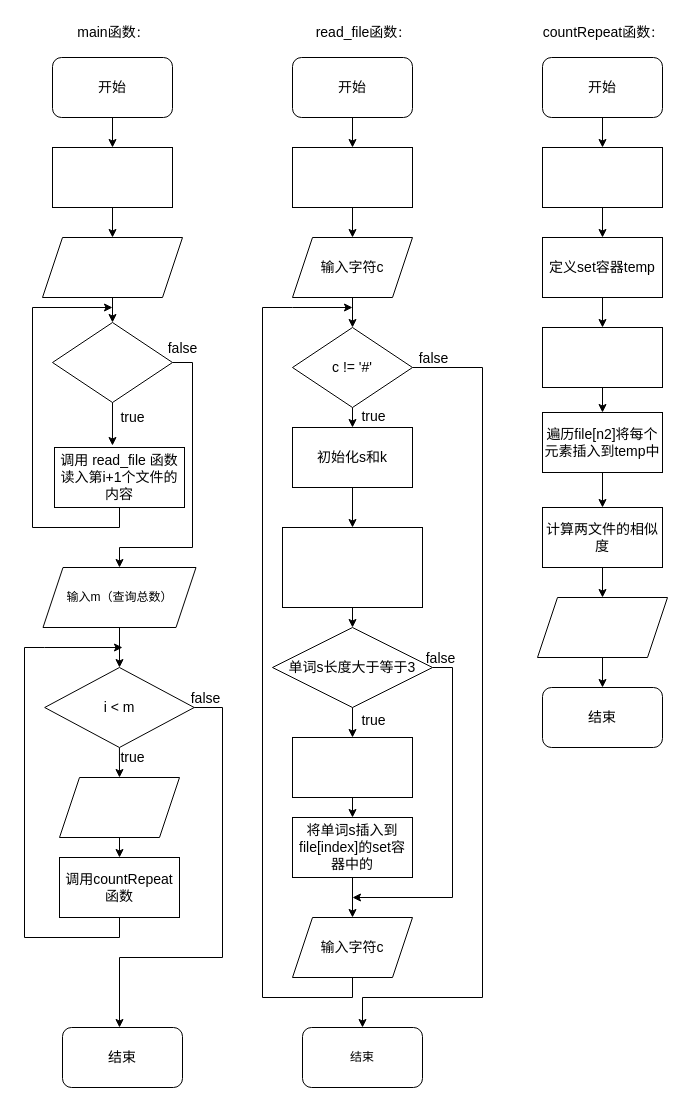
The diagram is 690 pixels wide and 1105 high, and some of its shapes have lost their labels. The centre of each missing label's shape, as x and y in pixels:
"i < n" belongs at point (112, 362).
"定义n, m, i, n1, n2变量" belongs at point (112, 177).
"持续读入单词最后形成一个字符串s，且保证单词大于10的部分不在写入s中" belongs at point (352, 567).
"接收形参index（第几个文件）" belongs at point (352, 177).
"接收形参n1，n2" belongs at point (602, 177).
"调用lowerCase函数" belongs at point (352, 767).
"输入n1,n2 （查询的两个文件）" belongs at point (119, 807).
"输入n（文件总数）" belongs at point (112, 267).
"输出相似度" belongs at point (602, 627).
"遍历file[n1]将每个元素插入到temp中" belongs at point (602, 357).
